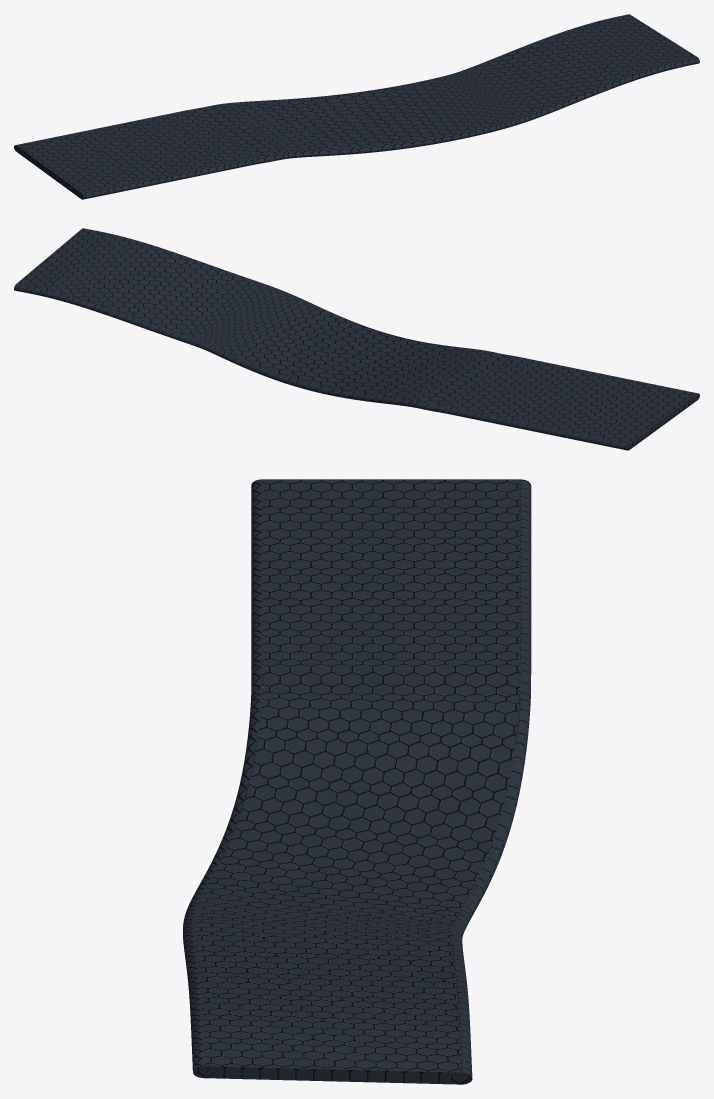
File: test-level-mesh-2a.glb
3 renders of one model, top to bottom at view 1: azimuth 30°, elevation 25°; view 2: azimuth 150°, elevation 25°; view 3: azimuth 270°, elevation 25°, orthographic. The views are drawn at different scales.
Visible parts, largest first — view 1: tracktest2; view 2: tracktest2; view 3: tracktest2.
Boxes of the visible parts, x1=… form: tracktest2: x1=14, y1=14, x2=699, y2=199; tracktest2: x1=14, y1=228, x2=699, y2=450; tracktest2: x1=183, y1=479, x2=531, y2=1084.
Size of the model in its own units: 41.48 by 1.99 by 10.4.
2 materials, 2 textured.
